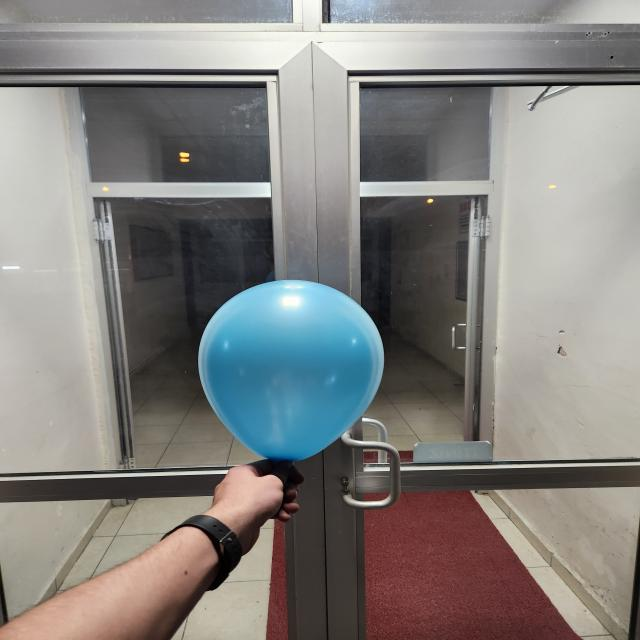blue: (200, 280, 387, 462)
